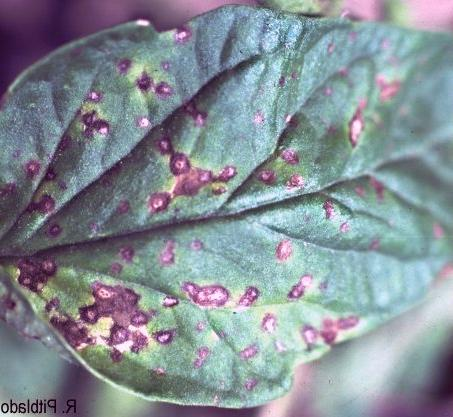Tomato Septoria leaf spot: (7, 14, 452, 407)
